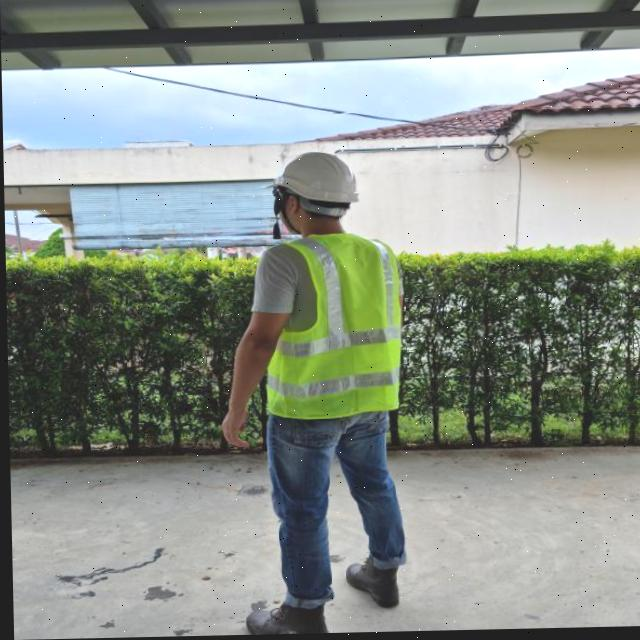Helmet: (263, 149, 371, 208)
No-Glove: (190, 399, 253, 462)
Safety-Boot: (243, 601, 328, 636), (343, 556, 398, 610)
Safety-Vest: (260, 232, 404, 422)
